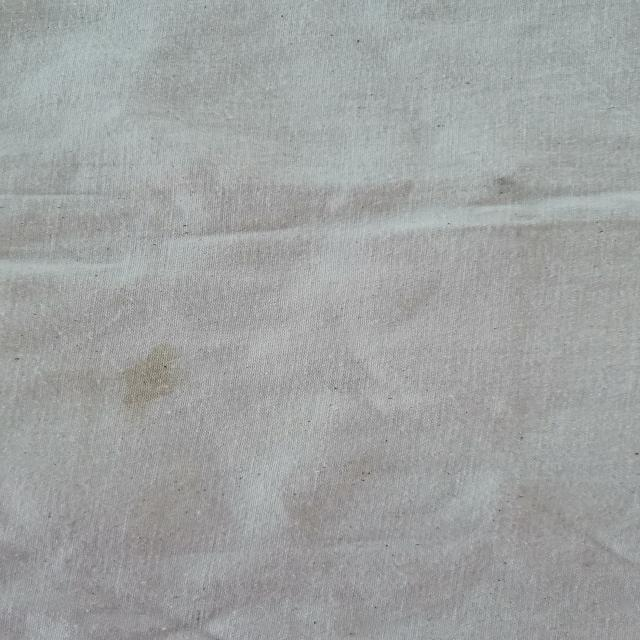taaaches: (110, 334, 205, 418), (462, 165, 560, 221)
